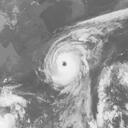cyclone: (43, 42, 87, 89)
